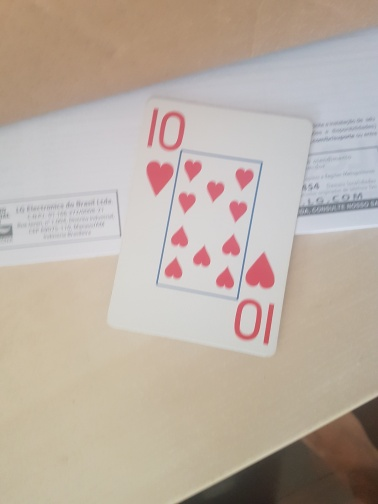ten: (105, 97, 313, 358)
